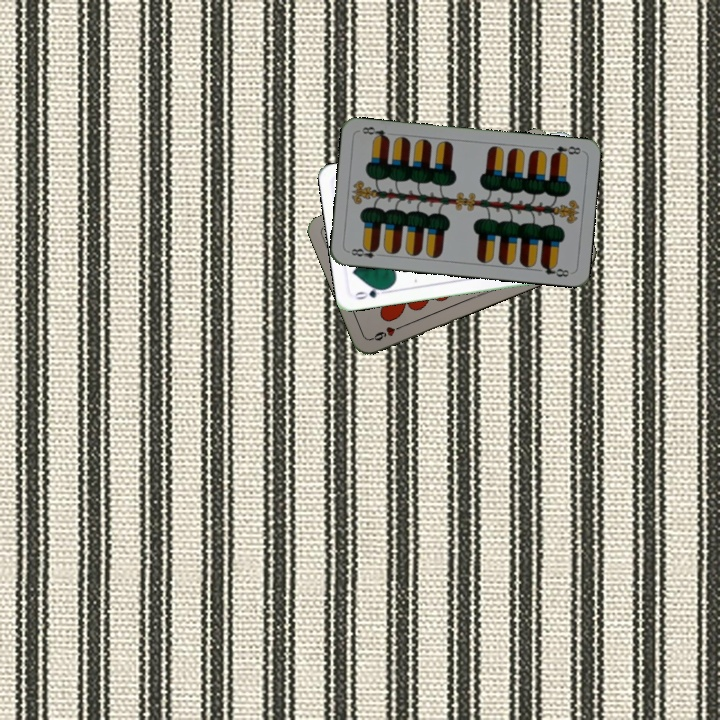E8: (345, 243, 385, 261), (548, 142, 584, 160)
GO: (350, 283, 391, 302)
H9: (367, 321, 406, 343)
